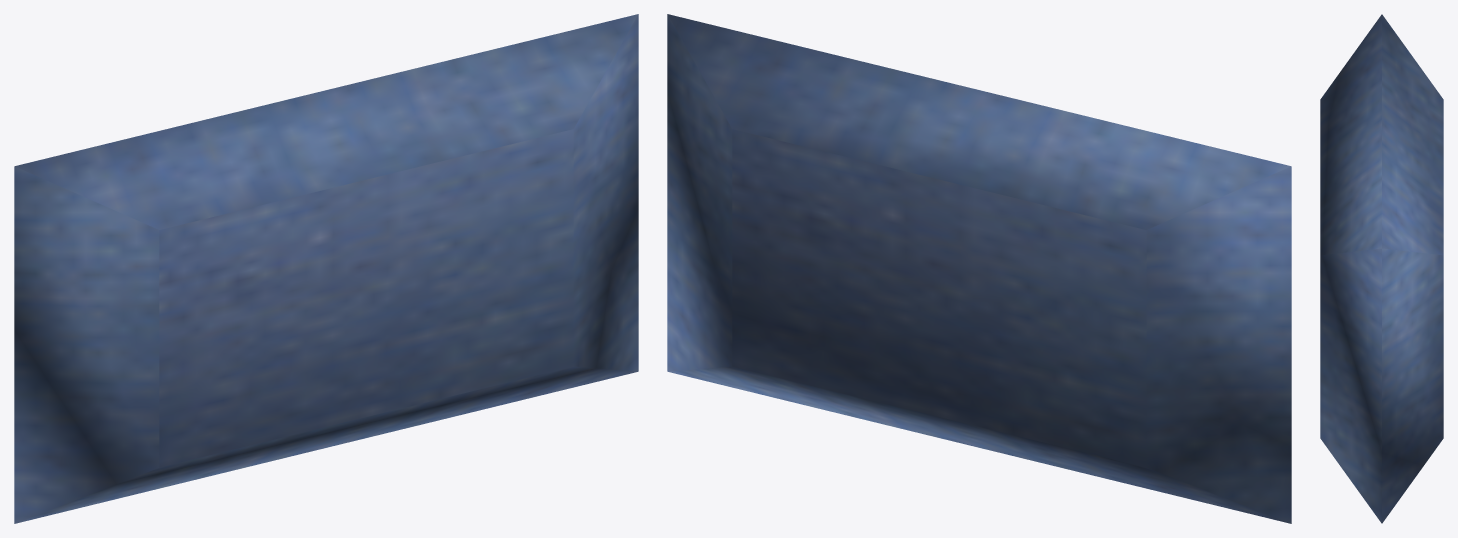
Rendered from LongPillow_3.fbx.
3 renders of one model, left to right at view 1: azimuth 30°, elevation 25°; view 2: azimuth 150°, elevation 25°; view 3: azimuth 270°, elevation 25°, orthographic. The views are drawn at different scales.
Parts seen in each view (by area): view 1: ThrowPillow_Blue_01; view 2: ThrowPillow_Blue_01; view 3: ThrowPillow_Blue_01.
Boxes of the visible parts, left/top/right/bottom form: ThrowPillow_Blue_01: left=14, top=14, right=638, bottom=523; ThrowPillow_Blue_01: left=667, top=14, right=1291, bottom=523; ThrowPillow_Blue_01: left=1320, top=14, right=1443, bottom=523.
Size of the model in its own units: 0.948 by 0.5193 by 0.211.
